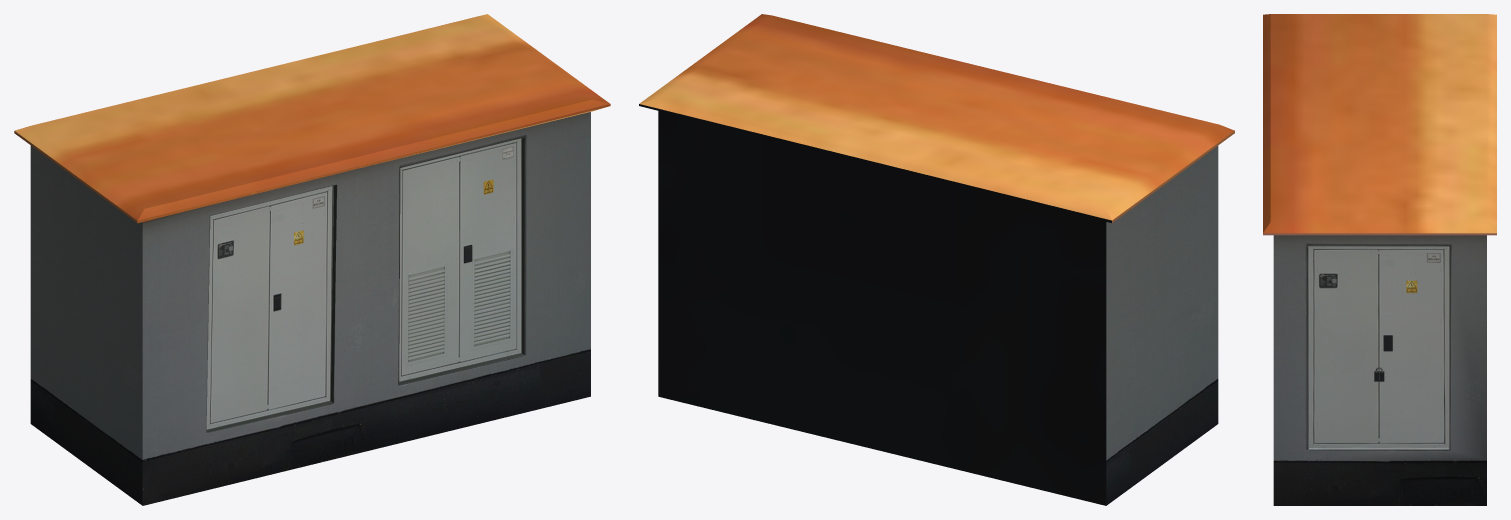
File: Kosk_v.1.fbx
3 renders of one model, left to right at view 1: azimuth 30°, elevation 25°; view 2: azimuth 150°, elevation 25°; view 3: azimuth 270°, elevation 25°, orthographic. The views are drawn at different scales.
Parts seen in each view (by area): view 1: kosk, ikili taraf kapı; view 2: kosk; view 3: kosk, tekli taraf kapi.
Part boxes in pixels (x1,y1,x2,y2): kosk: [14, 14, 610, 505]; ikili taraf kapı: [459, 142, 516, 362]; kosk: [639, 14, 1234, 505]; kosk: [1263, 14, 1496, 505]; tekli taraf kapi: [1379, 249, 1443, 443].
Size of the model in its own units: 96.16 by 57.92 by 43.28.
